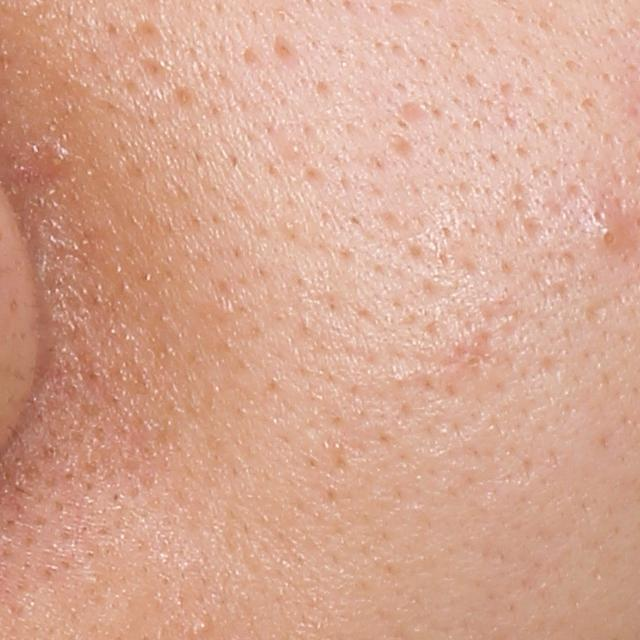atrophic_scar: (388, 133, 419, 162), (400, 99, 433, 125), (274, 33, 299, 66)
comedo: (590, 215, 636, 262), (191, 613, 212, 639)
